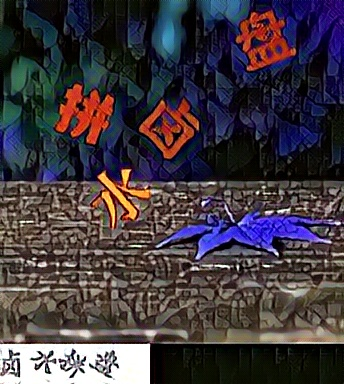C2B1: (137, 95, 201, 161)
C5CC: (234, 8, 298, 74)
C6B4: (50, 79, 114, 145)
CBAE: (89, 161, 153, 227)
